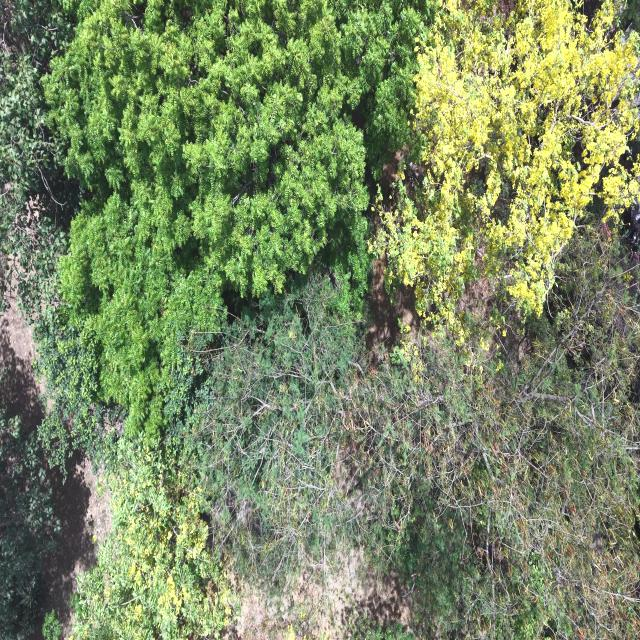DRY_AREA: (227, 548, 412, 639), (227, 549, 412, 639), (226, 549, 411, 639), (227, 550, 411, 639), (226, 551, 410, 639), (229, 551, 410, 639), (38, 451, 109, 633), (41, 451, 110, 634), (44, 451, 96, 633), (0, 302, 43, 430), (366, 255, 424, 349), (366, 256, 420, 348), (366, 257, 420, 348), (354, 571, 412, 625), (80, 458, 111, 543)
VEGETATION_TREE: (0, 0, 639, 639), (187, 228, 637, 637), (45, 1, 421, 437), (46, 1, 367, 436), (184, 276, 462, 620), (411, 226, 639, 639), (375, 1, 639, 343), (186, 276, 414, 594), (0, 0, 114, 470), (73, 442, 233, 639), (0, 0, 77, 321), (0, 410, 59, 639), (349, 614, 421, 639)
